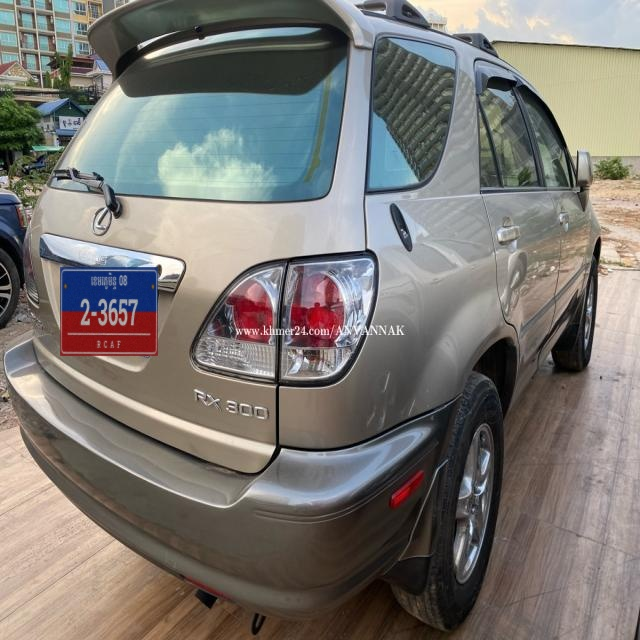Plate Number: (60, 267, 158, 357)
